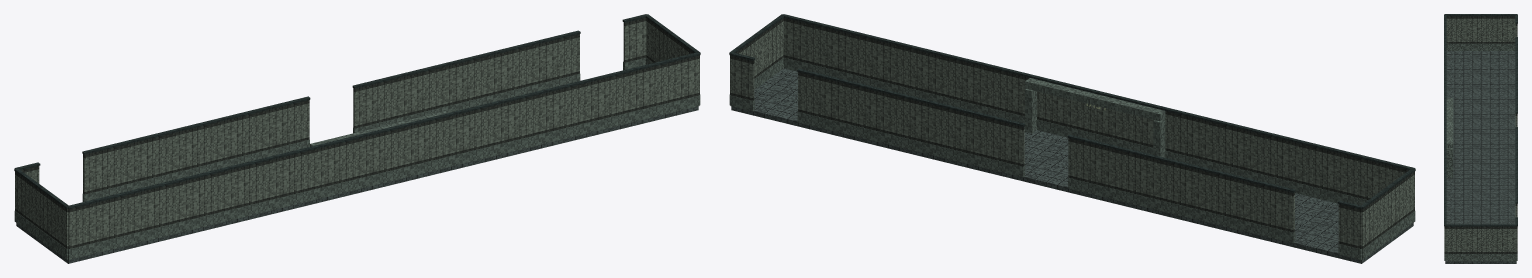
File: FERI_Shared_Arrival.fbx
3 views of the same model, side by side, from view 1: azimuth 30°, elevation 25°; view 2: azimuth 150°, elevation 25°; view 3: azimuth 270°, elevation 25° (orthographic). The views are drawn at different scales.
Visible parts, largest first — view 1: PL_Shared_Arrival_Wall, PL_Shared_Arrival_Concrete, PL_Shared_Arrival_Iron, PL_Shared_Arrival_Floor; view 2: PL_Shared_Arrival_Wall, PL_Shared_Arrival_Concrete, PL_Shared_Arrival_Floor, PL_Shared_Arrival_Iron; view 3: PL_Shared_Arrival_Floor, PL_Shared_Arrival_Wall, PL_Shared_Arrival_Concrete, PL_Shared_Arrival_Iron.
Part boxes in pixels (left/top/right/bottom): PL_Shared_Arrival_Wall: left=15, top=18, right=699, bottom=248; PL_Shared_Arrival_Concrete: left=14, top=57, right=700, bottom=259; PL_Shared_Arrival_Iron: left=14, top=14, right=700, bottom=209; PL_Shared_Arrival_Floor: left=16, top=106, right=698, bottom=263; PL_Shared_Arrival_Wall: left=730, top=18, right=1414, bottom=248; PL_Shared_Arrival_Concrete: left=729, top=57, right=1415, bottom=259; PL_Shared_Arrival_Floor: left=731, top=68, right=1413, bottom=263; PL_Shared_Arrival_Iron: left=729, top=14, right=1415, bottom=209; PL_Shared_Arrival_Floor: left=1445, top=51, right=1516, bottom=263; PL_Shared_Arrival_Wall: left=1444, top=16, right=1517, bottom=253; PL_Shared_Arrival_Concrete: left=1444, top=43, right=1517, bottom=261; PL_Shared_Arrival_Iron: left=1444, top=14, right=1517, bottom=226.
Bounding box in the file's own units: 56.3 × 4.86 × 8.3.
5 materials, 5 textured.
